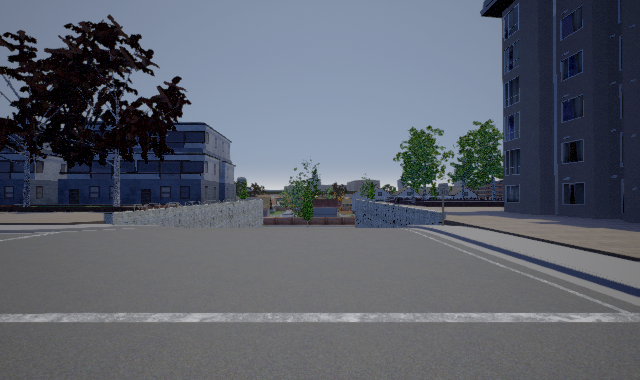traffic_sign: (438, 183, 449, 196)
